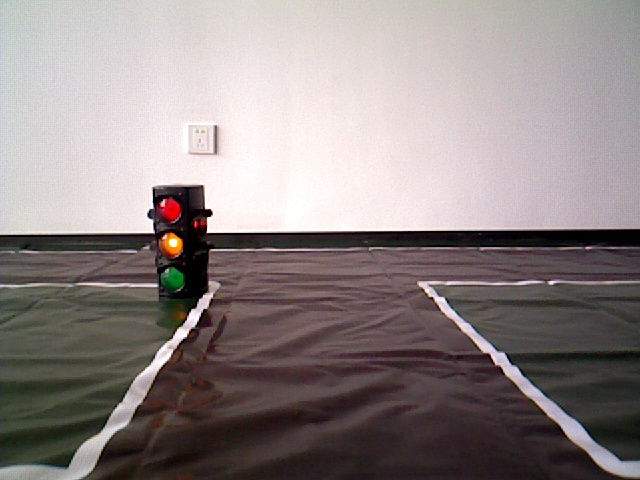yellow: (152, 185, 210, 297)
